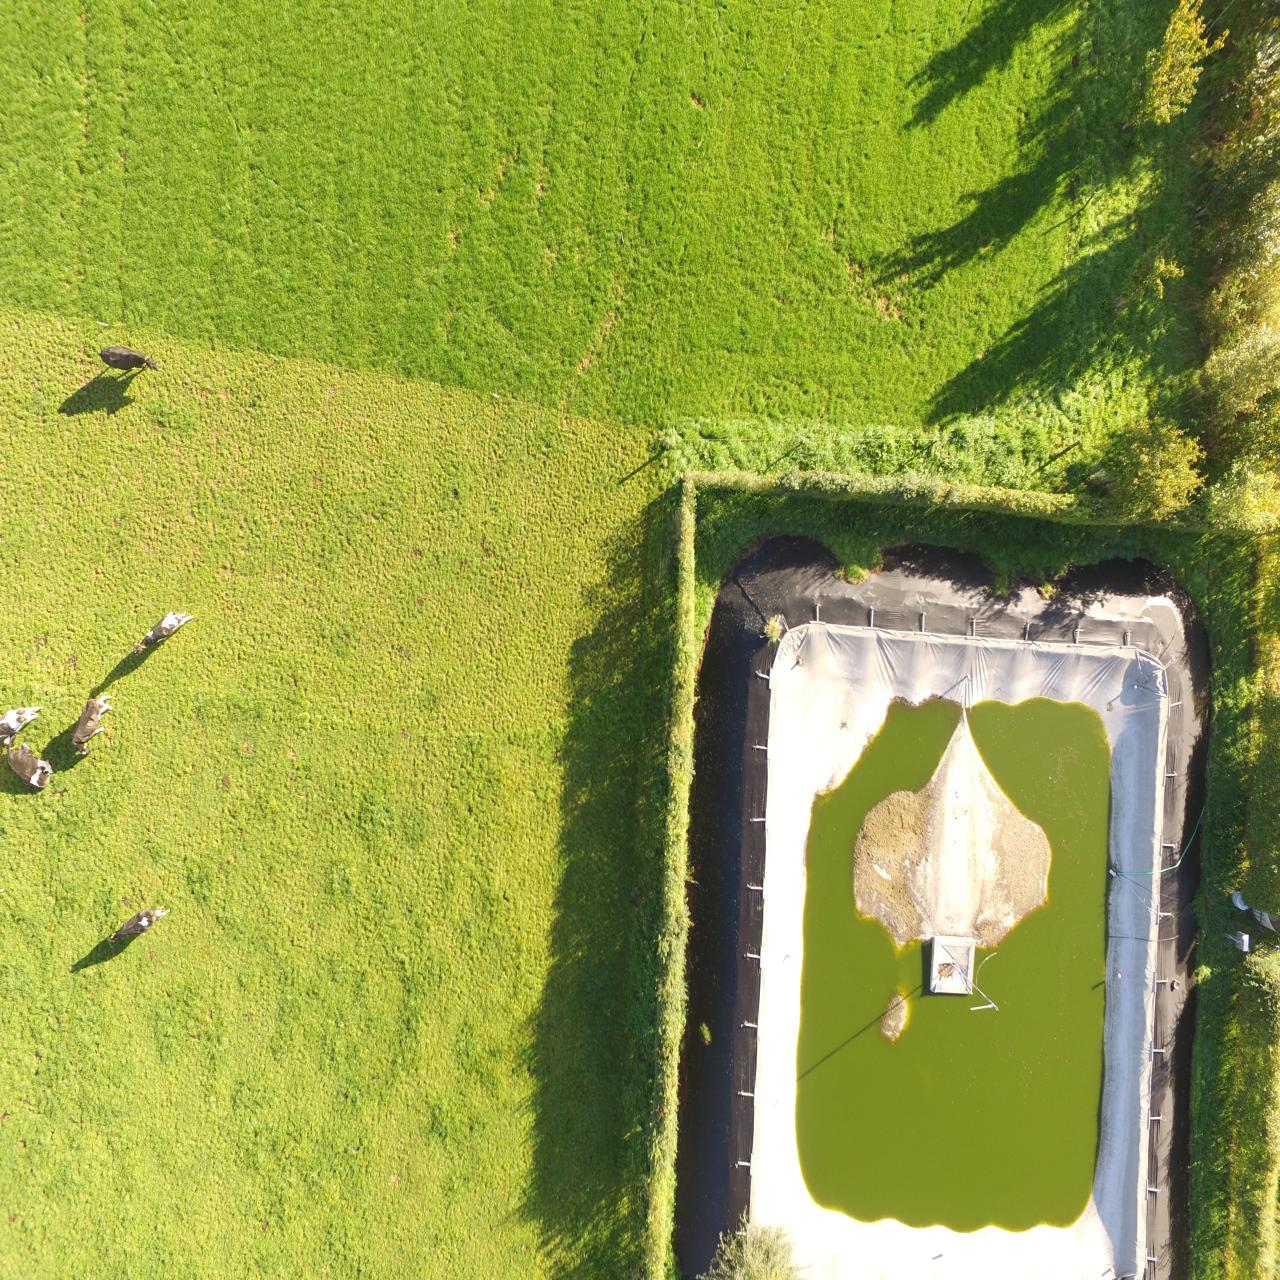cow: (132, 607, 194, 654), (71, 694, 115, 760), (105, 904, 170, 943), (94, 344, 162, 374), (6, 745, 51, 785)
